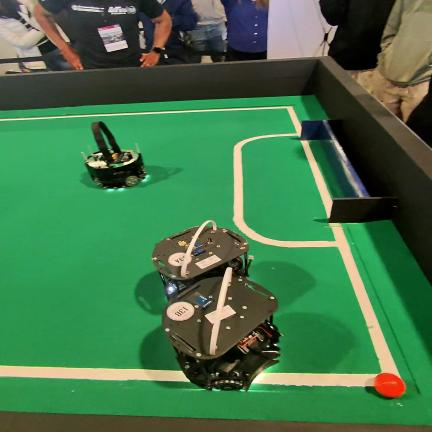cancha: (0, 96, 432, 425)
limites: (101, 106, 400, 377), (0, 366, 186, 382), (300, 140, 332, 216), (253, 372, 377, 388), (0, 114, 99, 121)
pelota: (374, 373, 405, 398)
porteria: (301, 120, 398, 224)
robot: (163, 273, 282, 391), (152, 220, 250, 300), (82, 121, 146, 189)
